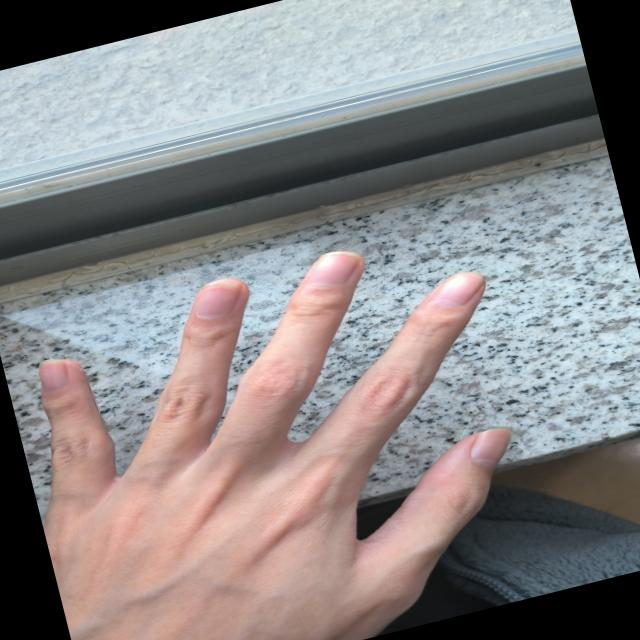Nail: (305, 251, 360, 287), (430, 272, 483, 307), (193, 281, 239, 318), (469, 427, 511, 467), (38, 359, 67, 391)
